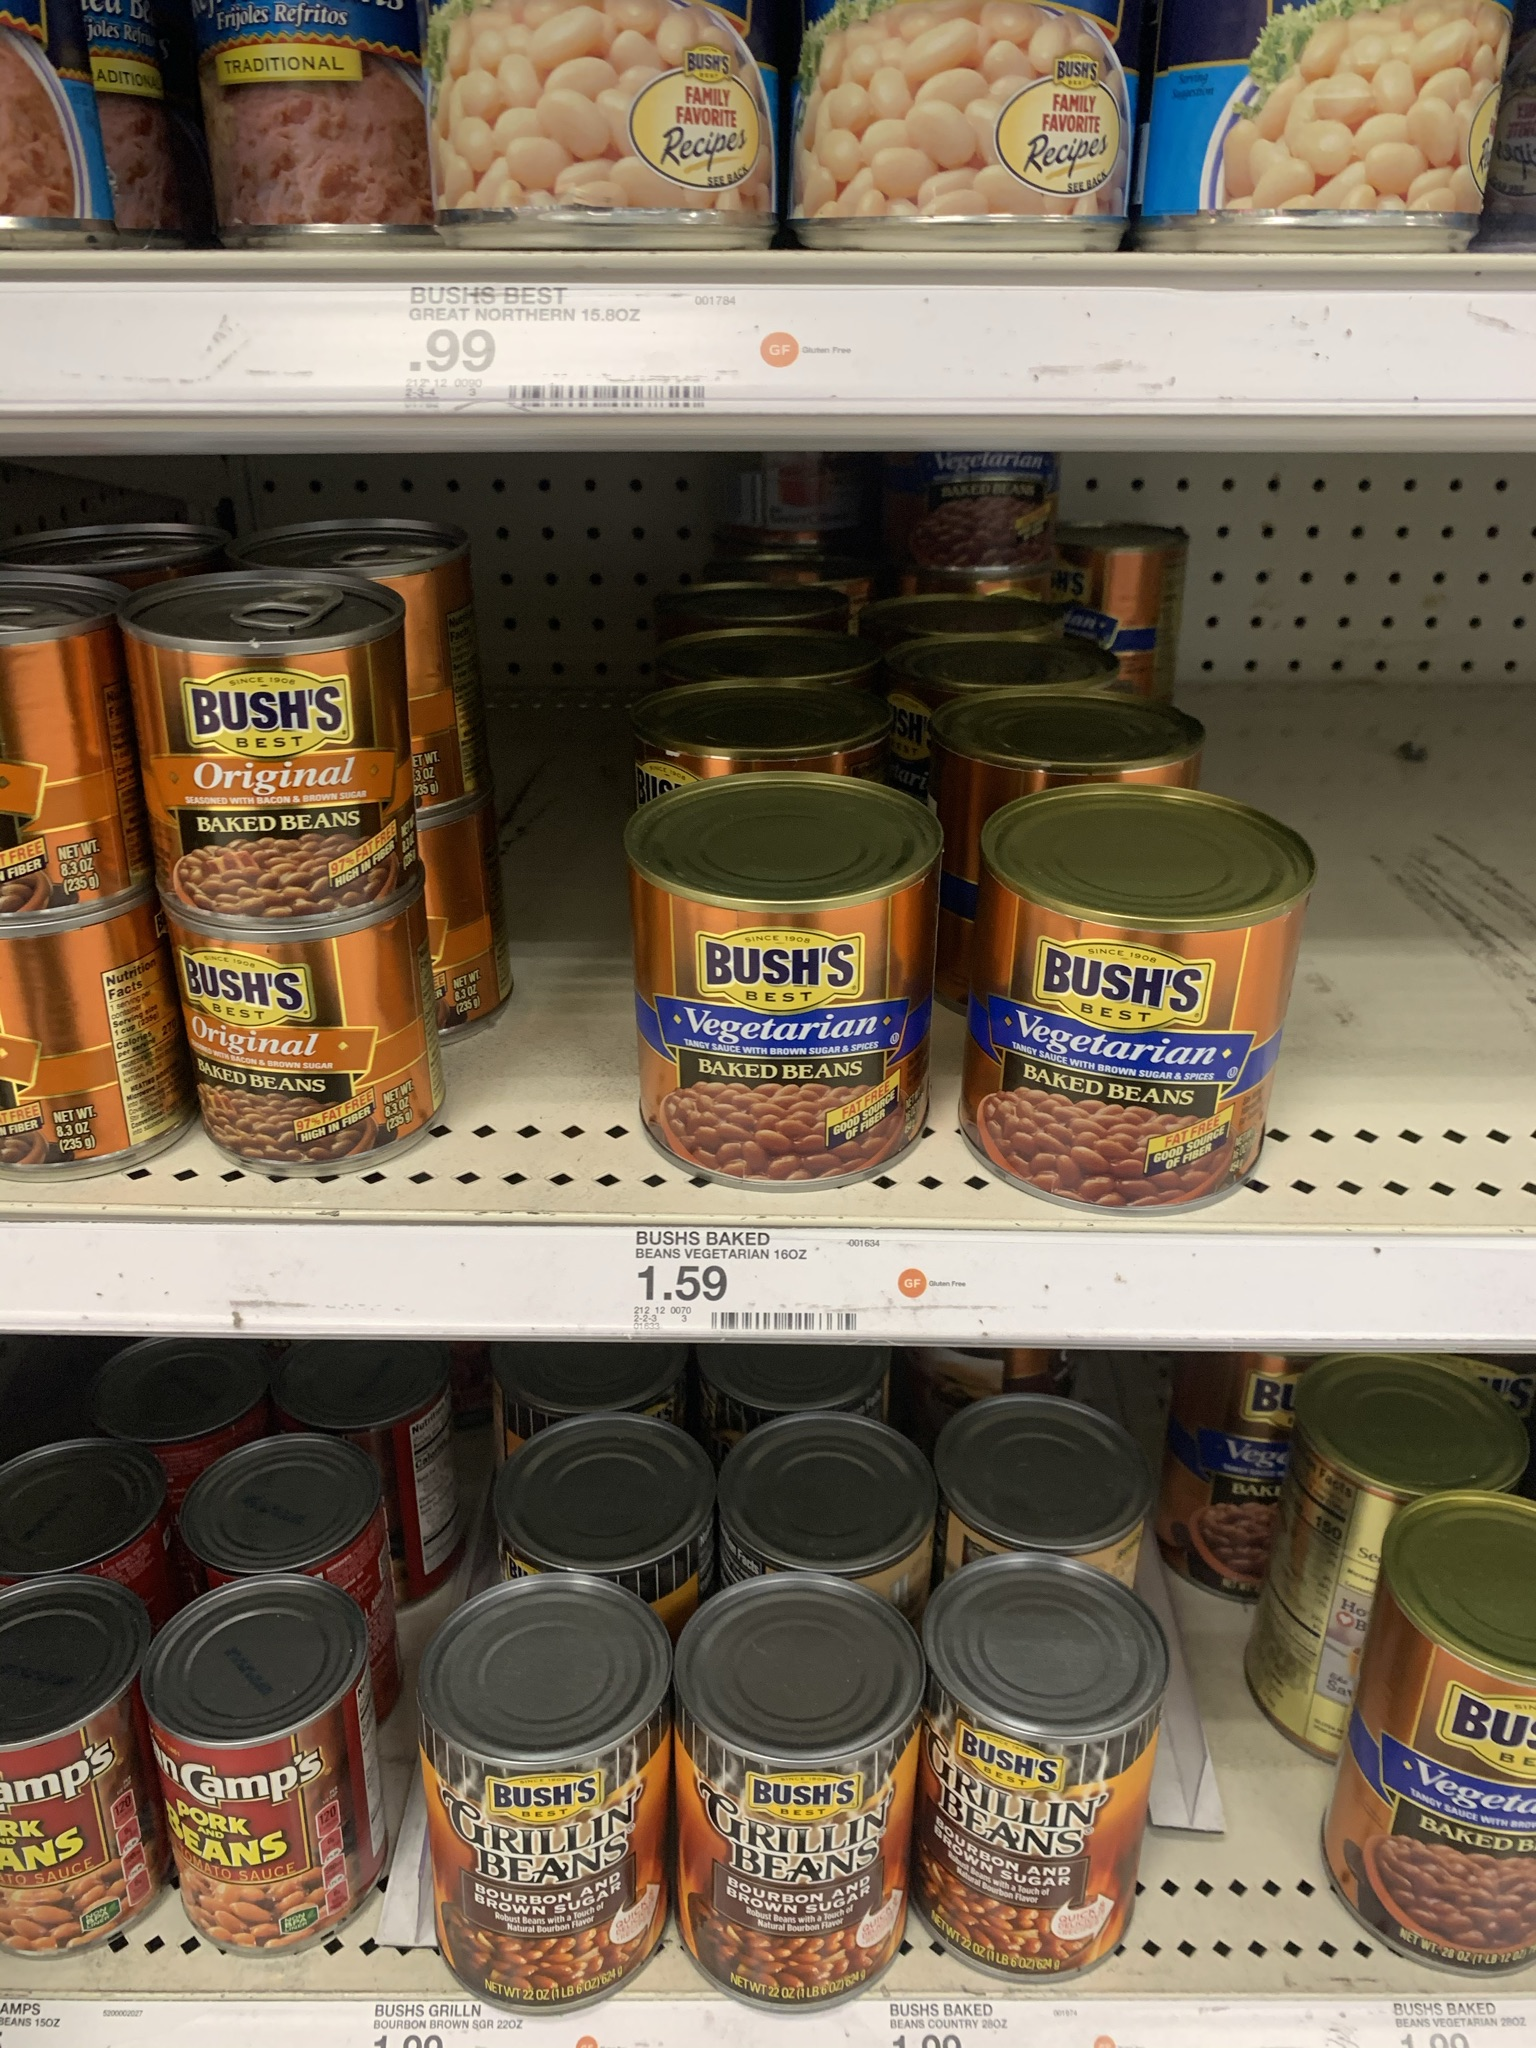can: (637, 824, 928, 1147), (991, 839, 1258, 1174), (686, 1625, 904, 1971), (936, 1593, 1134, 1954), (444, 1637, 662, 1964), (165, 619, 399, 892), (1376, 1579, 1536, 1945), (195, 935, 423, 1142), (177, 1663, 340, 1930), (3, 1651, 140, 1925)
